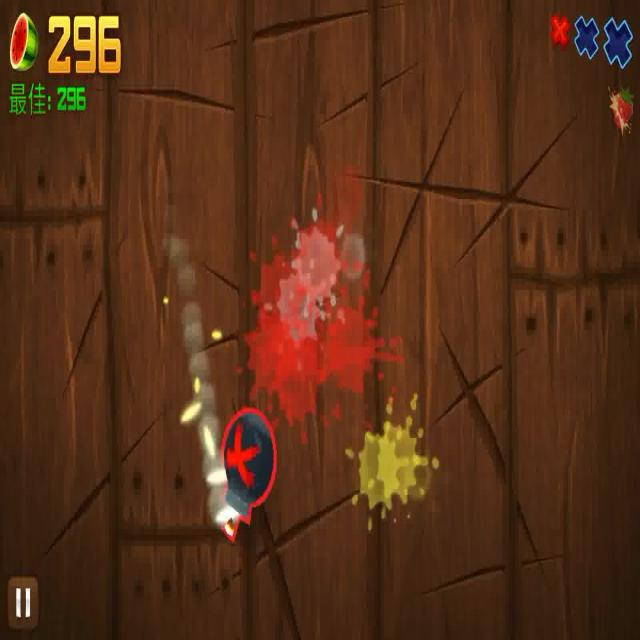bomb: (202, 403, 275, 541)
